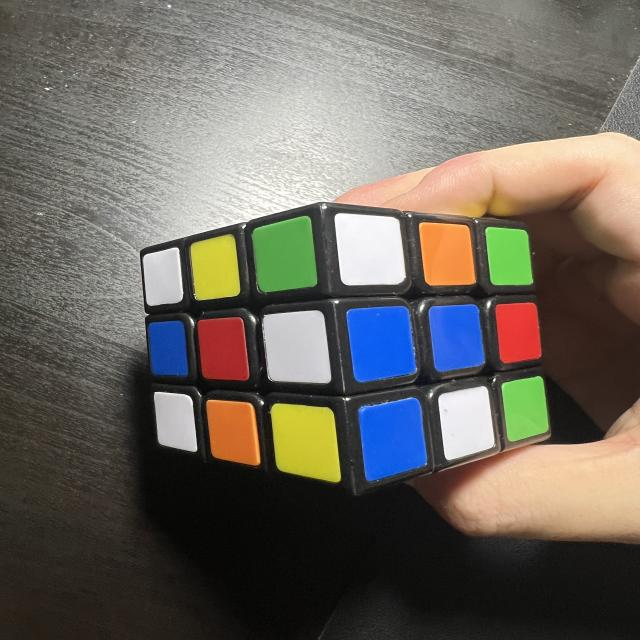blue: (345, 300, 417, 383), (358, 396, 429, 480), (148, 319, 189, 377)
center: (428, 301, 485, 373), (198, 317, 248, 384)
green: (250, 214, 319, 294), (484, 220, 535, 291), (499, 375, 552, 443)
orange: (205, 395, 260, 471), (418, 217, 475, 289)
red: (492, 299, 542, 364)
white: (260, 307, 334, 392), (334, 205, 407, 290), (434, 385, 498, 462), (152, 386, 198, 459), (142, 245, 185, 305)
yellow: (272, 401, 337, 485), (188, 233, 241, 301)
